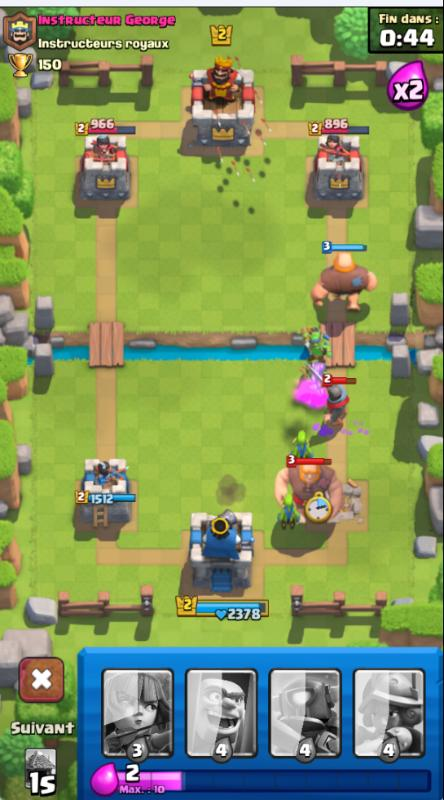chevalier: (319, 374, 359, 431)
geant: (311, 241, 378, 312), (275, 454, 343, 522)
gobelin: (275, 492, 302, 533), (291, 429, 314, 465)
gobelin_lances: (300, 328, 333, 366), (348, 373, 348, 374)
